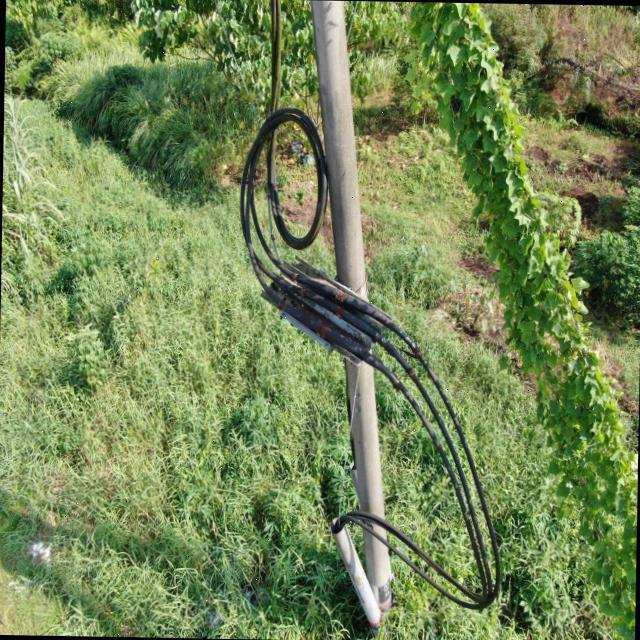critical vegetation: (397, 2, 640, 570)
